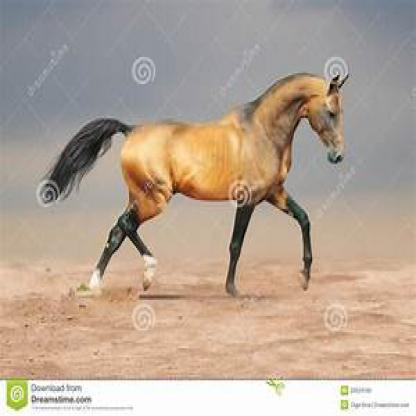horse: (43, 57, 354, 311)
